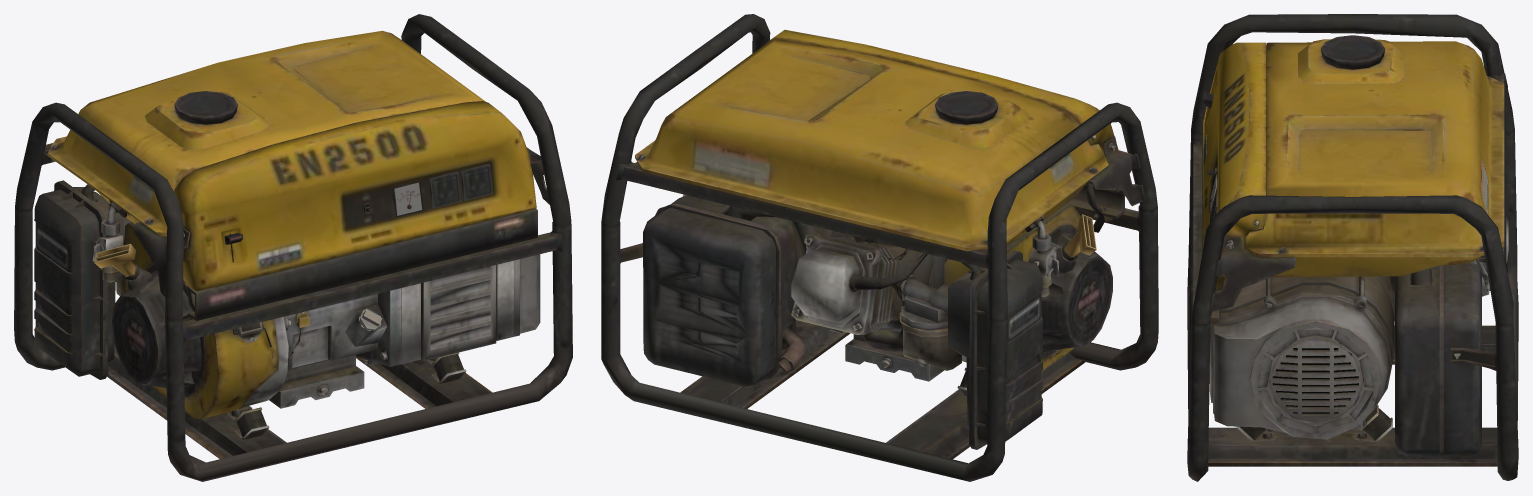
File: portable_generator.glb
3 views of the same model, side by side, from view 1: azimuth 30°, elevation 25°; view 2: azimuth 150°, elevation 25°; view 3: azimuth 270°, elevation 25° (orthographic).
Parts seen in each view (by area): view 1: portable_generator; view 2: portable_generator; view 3: portable_generator.
Part boxes in pixels (bbox=[...]): portable_generator: bbox=[14, 14, 572, 481]; portable_generator: bbox=[601, 14, 1158, 481]; portable_generator: bbox=[1187, 14, 1518, 481].
Size of the model in its own units: 0.8166 by 0.5753 by 0.564.
2 materials, 2 textured.
